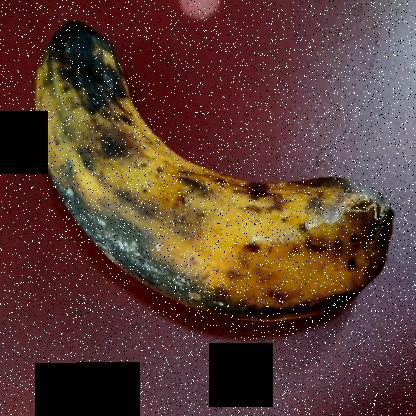rotten: (24, 6, 394, 345)
